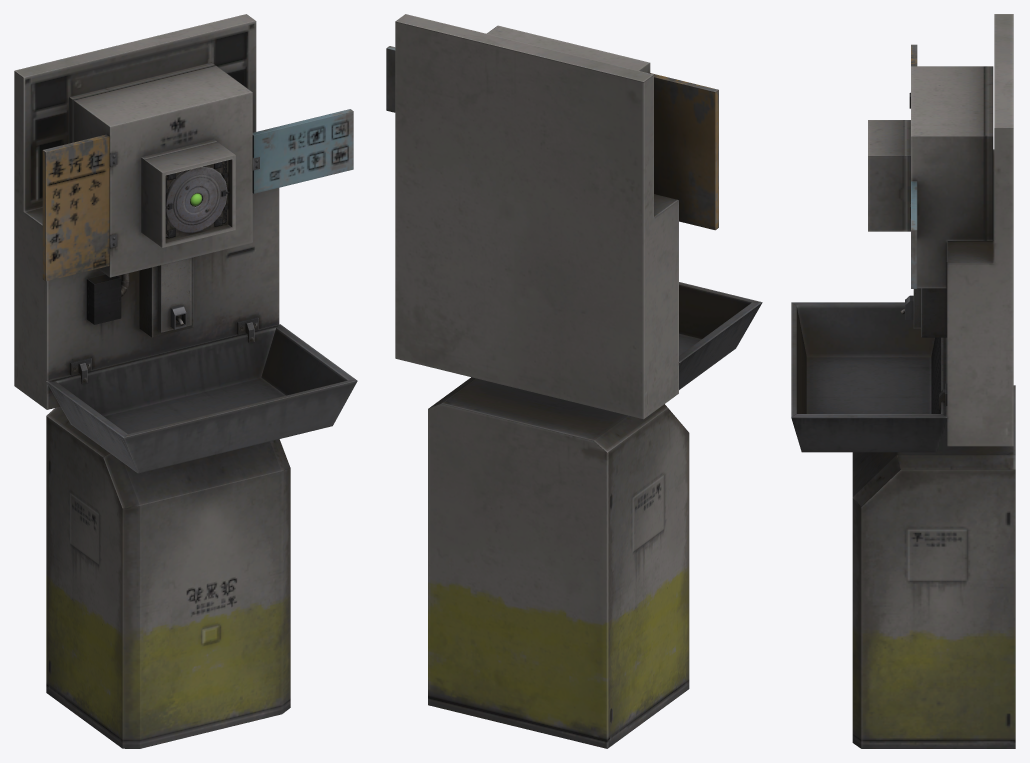
Rendered from scanning_machine_hygeine.DAE.
3 renders of one model, left to right at view 1: azimuth 30°, elevation 25°; view 2: azimuth 150°, elevation 25°; view 3: azimuth 270°, elevation 25°, orthographic. The views are drawn at different scales.
Parts seen in each view (by area): view 1: scanning_machine_hygiene; view 2: scanning_machine_hygiene; view 3: scanning_machine_hygiene.
Part boxes in pixels (left/top/right/bottom): scanning_machine_hygiene: left=14, top=14, right=357, bottom=748; scanning_machine_hygiene: left=386, top=14, right=762, bottom=748; scanning_machine_hygiene: left=791, top=14, right=1015, bottom=748.
Size of the model in its own units: 40.23 by 78.79 by 25.2.
